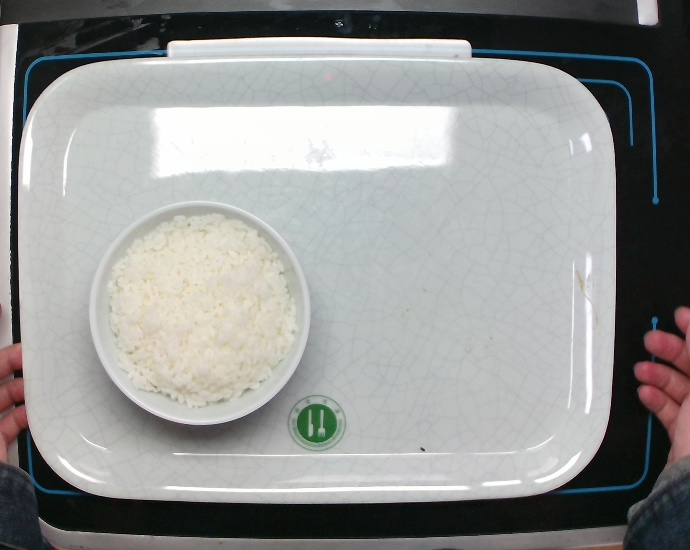JYsf-Fan_Wan: (87, 198, 312, 427)
